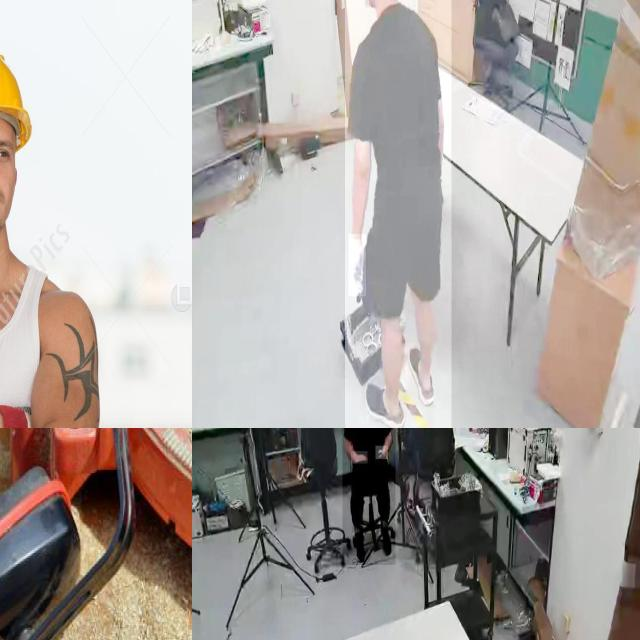Ear-protection: (0, 428, 136, 640)
No_Glasses: (0, 131, 14, 169)
hand_glove: (348, 234, 366, 297)
hand_noglove: (351, 451, 368, 465), (376, 446, 388, 460)
person: (345, 0, 452, 428), (342, 428, 395, 565), (396, 428, 436, 526)
shoes: (360, 375, 410, 428), (406, 341, 439, 415), (376, 519, 393, 560), (352, 524, 368, 565)
